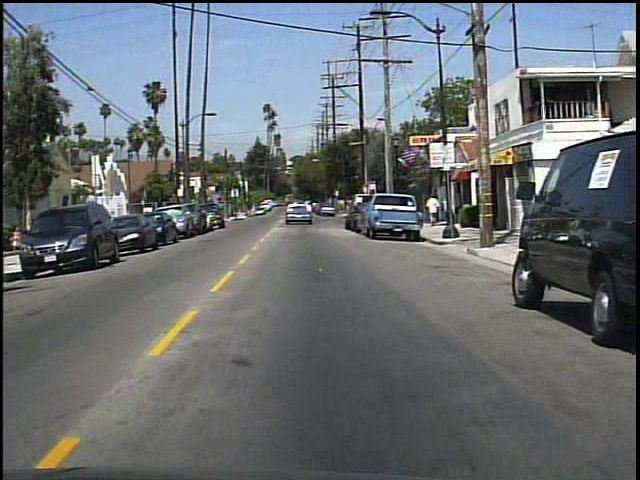person: (425, 190, 445, 229), (13, 223, 29, 252)
